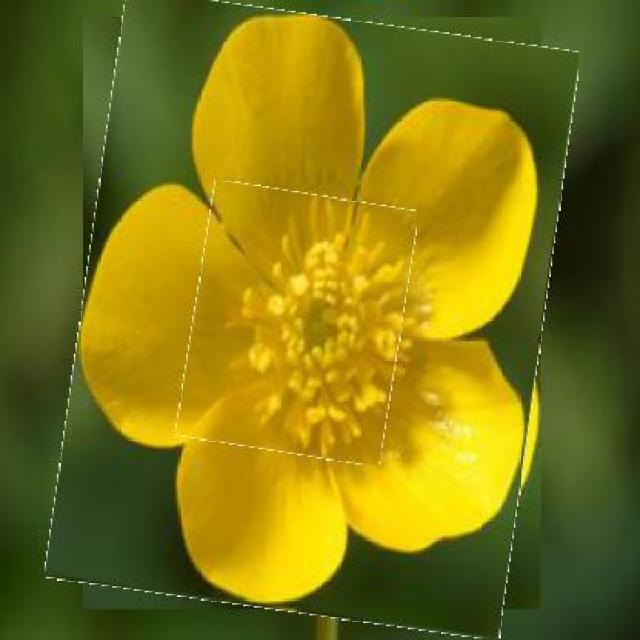Flower: (64, 3, 561, 626), (185, 188, 409, 460)
